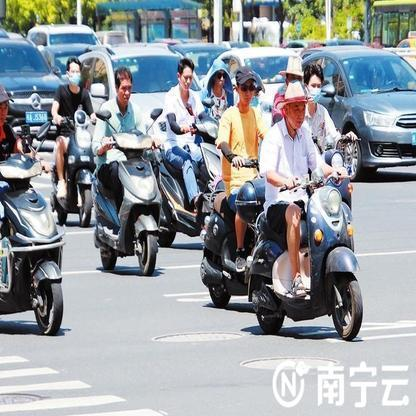target: (253, 80, 384, 349), (201, 64, 267, 307), (90, 67, 165, 279)
